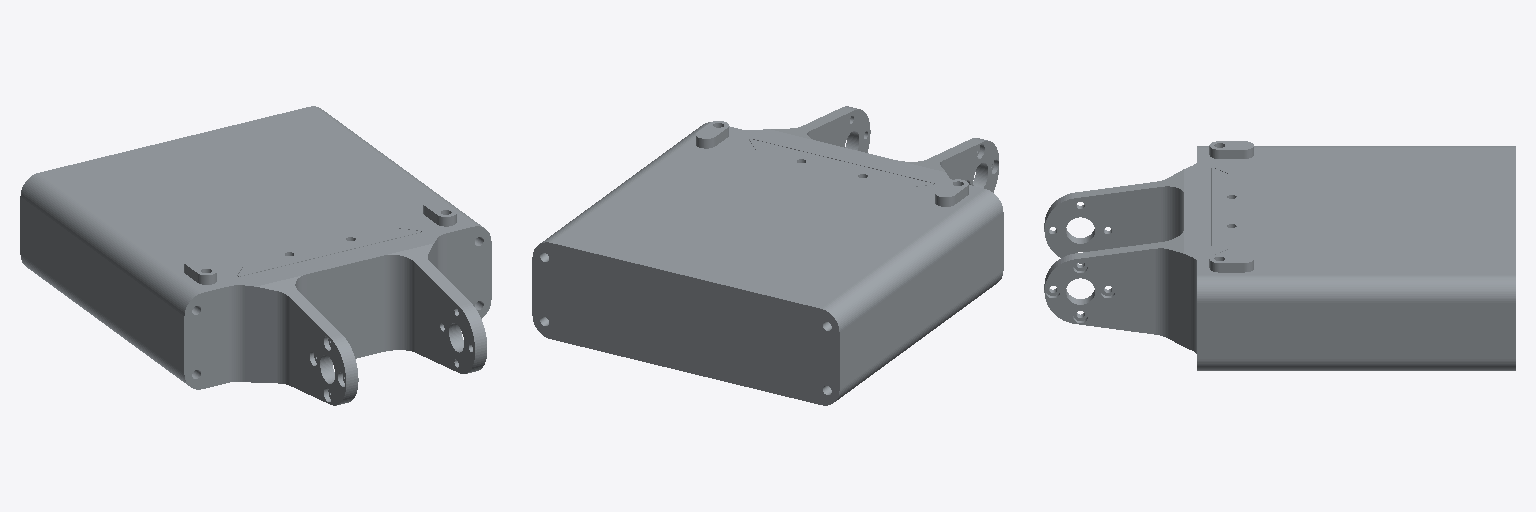
The robot description file, URDF, robot "sysID_2XC430":
<?xml version="1.0" ?><robot name="sysID_2XC430">  
  <link name="2xc430">    
    <visual>      
      <origin xyz="0 0 0" rpy="0 -0 0"/>      
      <geometry>        
        <mesh filename="package:///meshes/2xc430_visual.stl"/>        
      </geometry>      
      <material name="2xc430_material">        
        <color rgba="0.53778433395328428812 0.5264357970166424483 0.5155377112718237953 1.0"/>        
      </material>      
    </visual>    
    <collision>      
      <origin xyz="0 0 0" rpy="0 -0 0"/>      
      <geometry>        
        <mesh filename="package:///meshes/2xc430_collision.stl"/>        
      </geometry>      
    </collision>    
    <inertial>      
      <origin xyz="0.075524953696132282599 0.017886243519076083786 0.0056748822304184586354" rpy="0 0 0"/>      
      <mass value="0.13164999999836235478"/>      
      <inertia ixx="4.5973499788565170057e-05" ixy="-6.3707692171101867995e-06" ixz="-6.4106848464462649908e-07" iyy="4.4966269289965505717e-05" iyz="-1.4151876066262353929e-07" izz="5.8942005476165127299e-05"/>      
    </inertial>    
  </link>  

  <link name="arm_430">    
    <visual>      
      <origin xyz="0 0 0" rpy="0 -0 0"/>      
      <geometry>        
        <mesh filename="package:///meshes/arm_430_visual.stl"/>        
      </geometry>      
      <material name="arm_430_material">        
        <color rgba="0.63059283987567615881 0.65298952457695413898 0.67418901807298259321 1.0"/>        
      </material>      
    </visual>    
    <collision>      
      <origin xyz="0 0 0" rpy="0 -0 0"/>      
      <geometry>        
        <mesh filename="package:///meshes/arm_430_collision.stl"/>        
      </geometry>      
    </collision>    
    <inertial>      
      <origin xyz="-0.077790387031996671707 -1.3637865612687968304e-05 -0.019000000000000103612" rpy="0 0 0"/>      
      <mass value="0.25549999999999989386"/>      
      <inertia ixx="0.00024426144376379248842" ixy="9.4015858830725975485e-08" ixz="-8.271998648043313894e-19" iyy="0.00041073874164068095282" iyz="1.466732916362913053e-16" izz="0.00022084196523238861366"/>      
    </inertial>    
  </link>  

  <joint name="joint_0" type="revolute">    
    <origin xyz="0.096000000152447806379 0.032699858643998935825 0.0062193960984139899303" rpy="-1.5707963267948961139 1.0547118733939117296e-15 -1.5707963267948950037"/>    
    <parent link="2xc430"/>    
    <child link="arm_430"/>    
    <axis xyz="0 0 1"/>    
    <limit effort="1" velocity="20" lower="-1.570796326794896558" upper="1.570796326794896558"/>    
    <joint_properties friction="0.0"/>    
  </joint>  


</robot>

--- What the picture shows (computed from the rendered views, not written in the file) ---
Views: 3 orthographic renders of the robot side by side, from view 1: azimuth 30°, elevation 25°; view 2: azimuth 150°, elevation 25°; view 3: azimuth 270°, elevation 25°.
Model sysID_2XC430 with 2 links and 1 joints (1 revolute), rooted at 2xc430, posed all joints at 0.
Visible links, largest first — view 1: arm_430; view 2: arm_430; view 3: arm_430.
Boxes of the visible links, box(x1,y1,x2,y2) form: arm_430: box(20, 106, 491, 405); arm_430: box(532, 106, 1003, 405); arm_430: box(1044, 141, 1515, 370).
Bounding box of the posed robot: 0.1 × 0.137 × 0.033 m (x, y, z).
Meshes: 2 distinct files referenced, 1 mesh visuals loaded (1 binary STL); not drawn: 1 (reference not matched to a file when rendering).